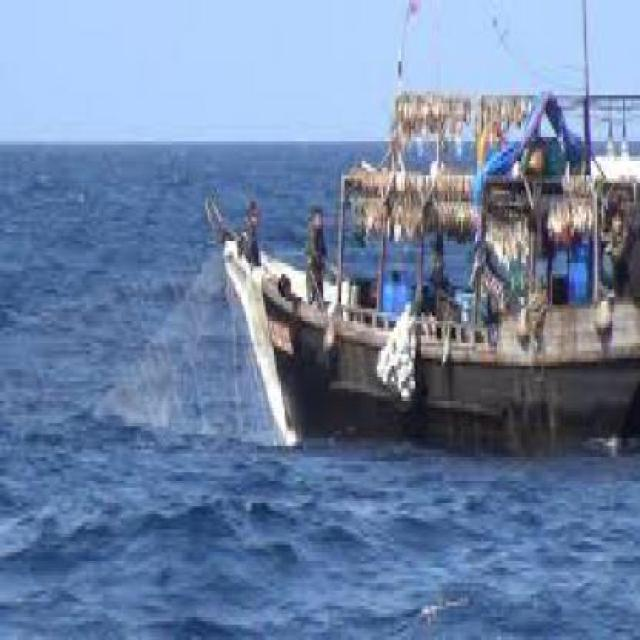fish-b: (185, 62, 639, 474)
